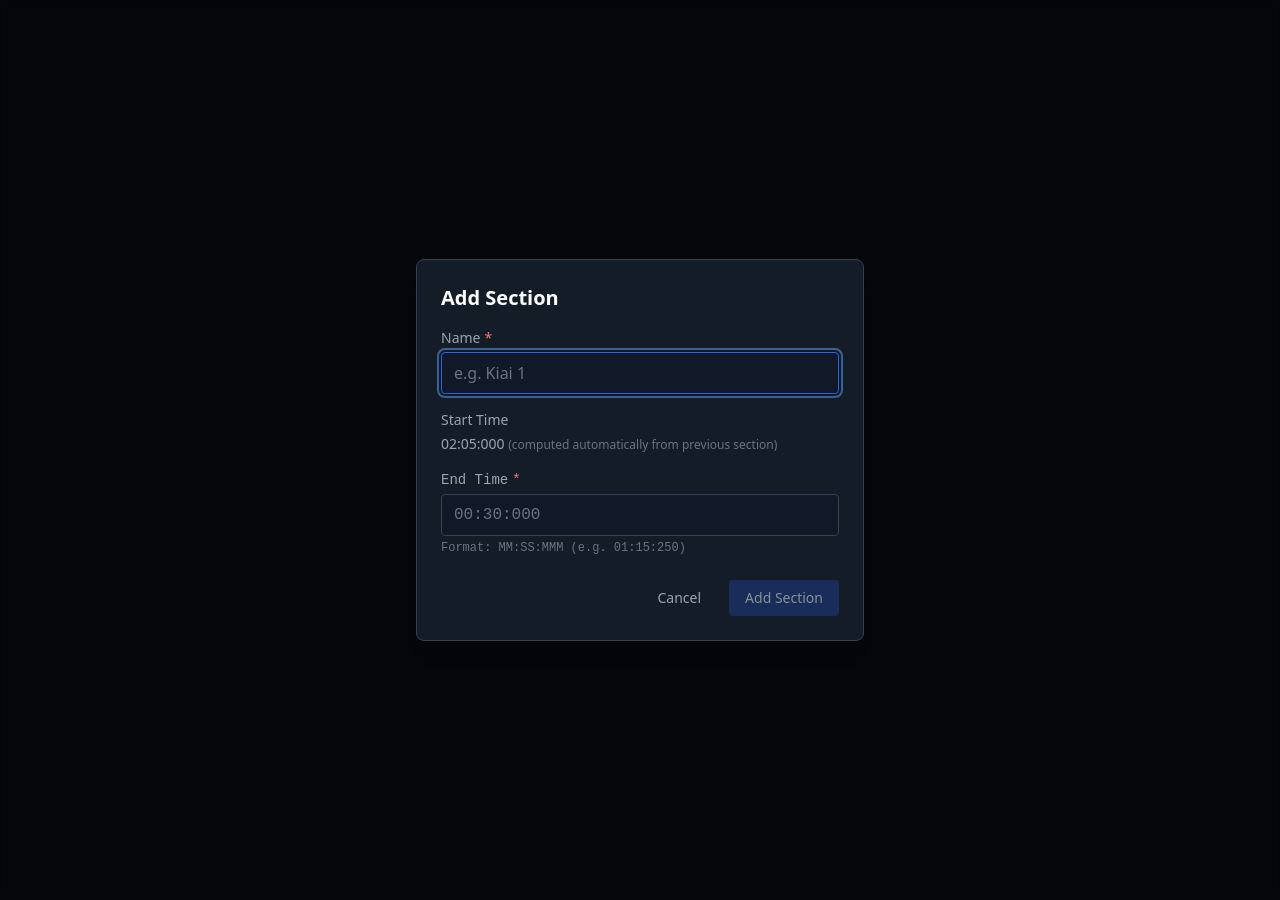
Test: CreateSectionModal › shows error for end time before computed start time
The image size is (1280, 900).
Type "Bad" into the field labelled "Name*".
click(640, 373); type("Bad")  # box [441,352,839,394]
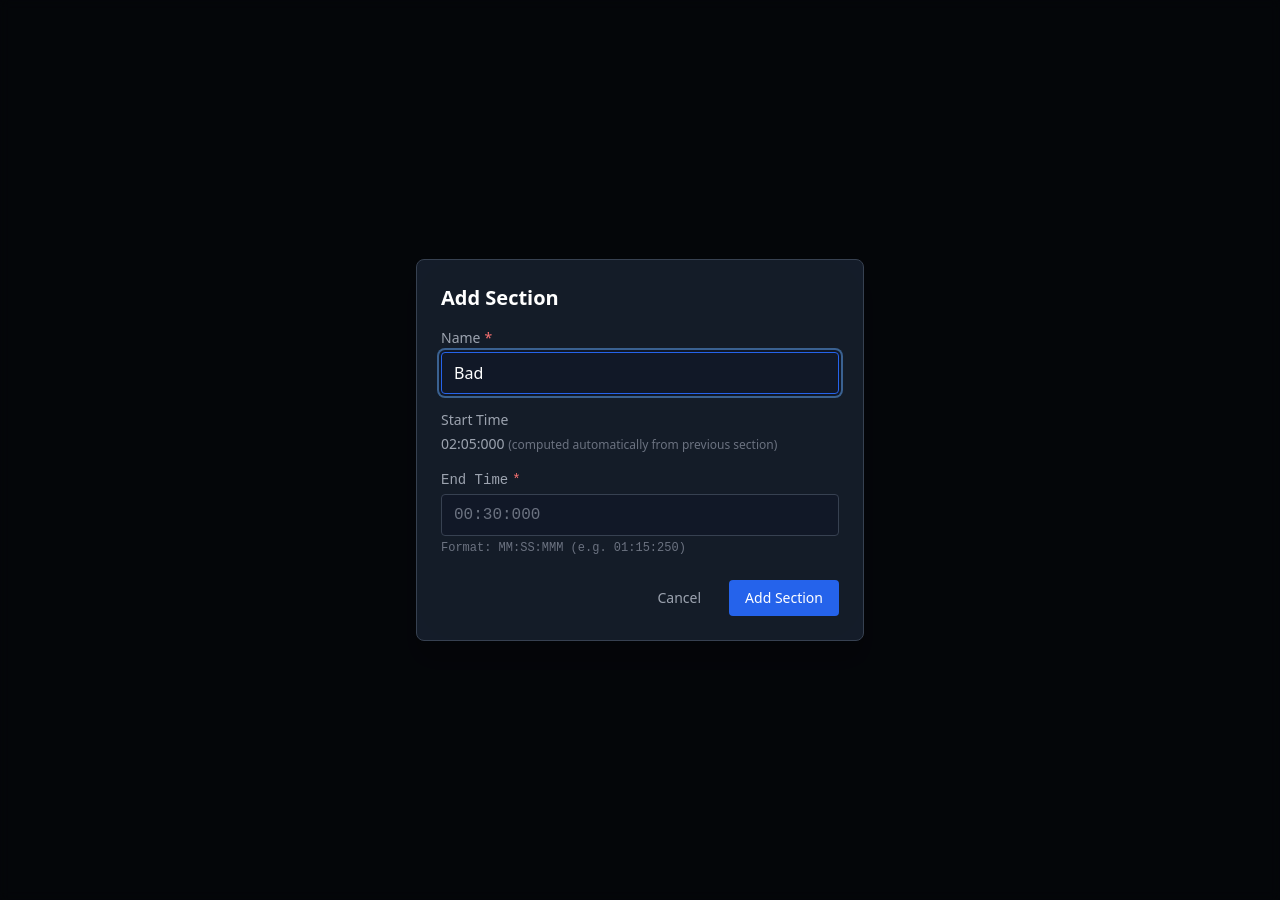
Type "00:01:000" into the field labelled "End Time*".
click(640, 515); type("00:01:000")  # box [441,494,839,536]
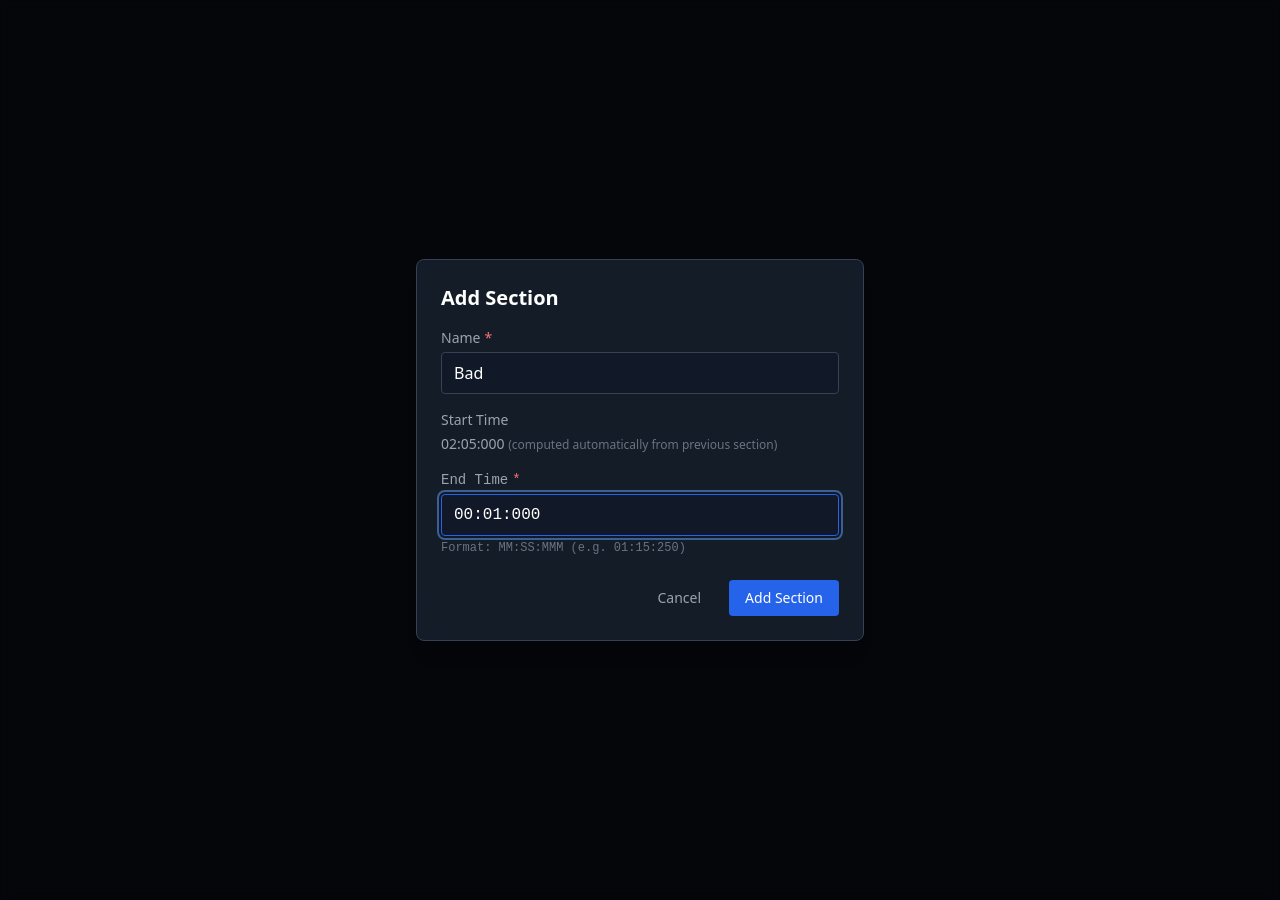
Click the button "Add Section".
click(784, 598)  # box [729,580,839,616]
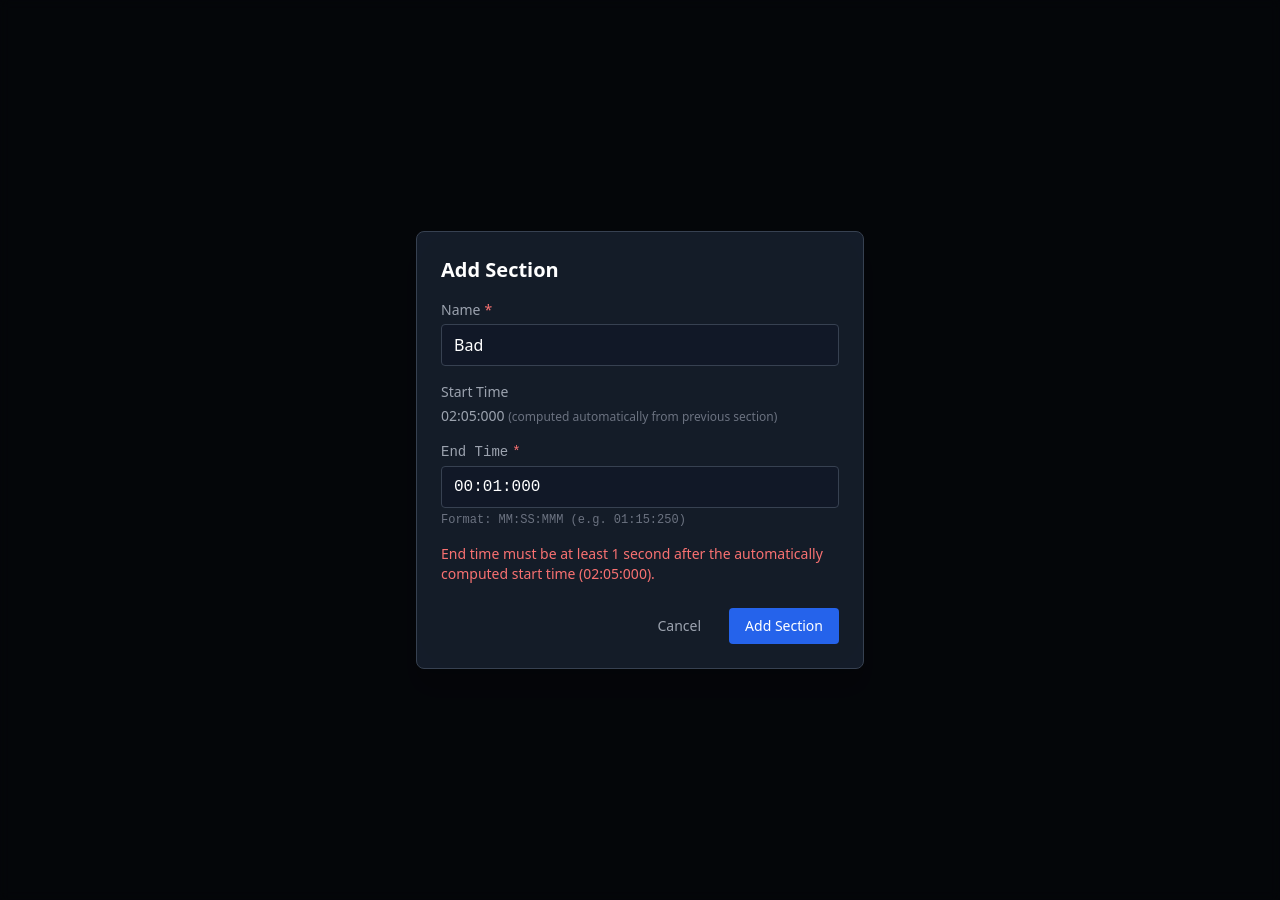
expect the message shows "after the automatically computed start time": met, box [441,544,823,583]
